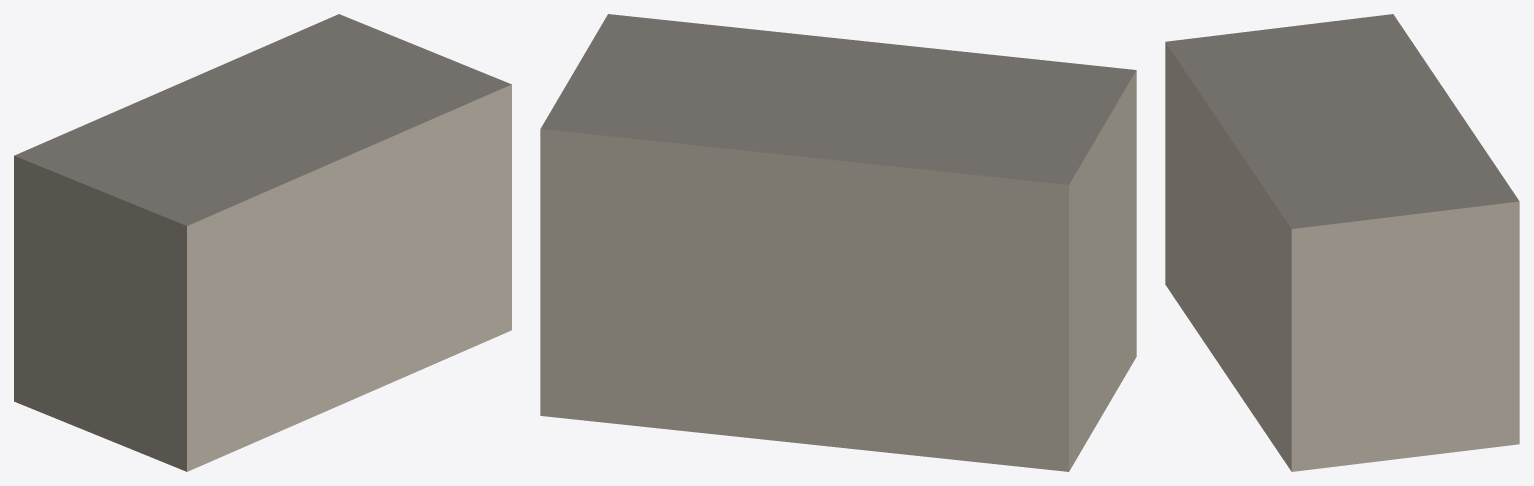
3 renders of one model, left to right at view 1: azimuth 30°, elevation 25°; view 2: azimuth 150°, elevation 25°; view 3: azimuth 270°, elevation 25°, orthographic. The views are drawn at different scales.
Parts seen in each view (by area): view 1: HP-w1267682863; view 2: HP-w1267682863; view 3: HP-w1267682863.
Part boxes in pixels (x1,y1,x2,y2): HP-w1267682863: (14,14,511,471); HP-w1267682863: (540,14,1136,471); HP-w1267682863: (1165,14,1519,471).
Size of the model in its own units: 28.5 by 15 by 19.84.
